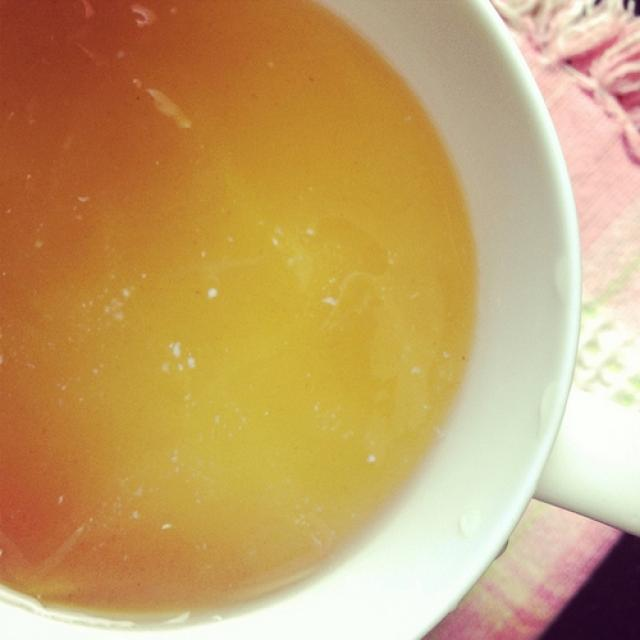蛋糕甜品: (11, 13, 589, 623)
